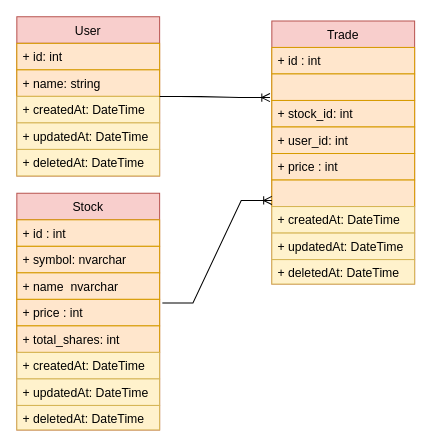
This 431x447 diagram has some shape labels left out. The shapes that lost their labels are listed below. From the top down, each one's centre as x and y in pixels, then its label:
At [343,86]: "+ type: char".
At [343,193]: "+ shares: int".
